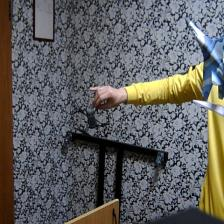drone: (68, 94, 111, 147)
